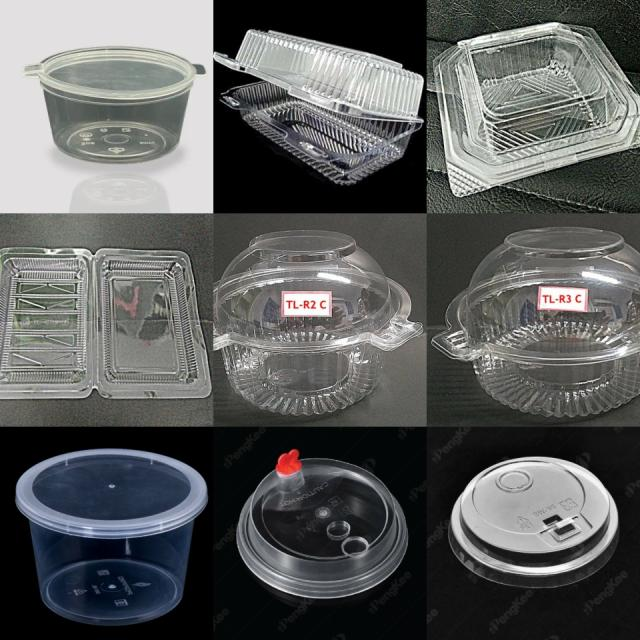Single-Use-Plastic: (432, 226, 640, 418), (215, 231, 422, 416), (434, 22, 640, 196), (16, 450, 208, 625), (214, 30, 424, 185), (0, 248, 210, 399), (236, 449, 408, 599), (451, 458, 616, 586), (22, 46, 204, 162)
